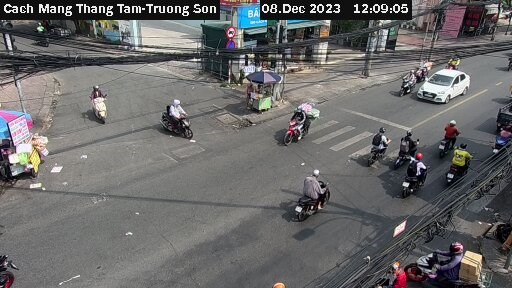car: (418, 66, 475, 100)
motorbike: (404, 241, 492, 288), (278, 174, 347, 222), (149, 96, 208, 142), (272, 101, 321, 150), (395, 153, 432, 199), (84, 89, 118, 129), (437, 146, 473, 181), (359, 125, 392, 161), (433, 122, 462, 150), (395, 68, 420, 96), (442, 50, 464, 69)
